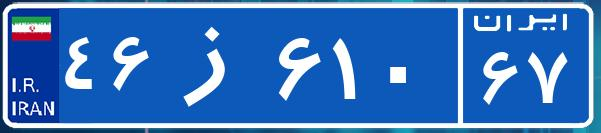0: (385, 28, 445, 110)
1: (330, 28, 385, 110)
4: (57, 26, 110, 107)
6: (273, 28, 330, 110), (475, 38, 525, 113), (110, 28, 158, 105)
7: (525, 38, 570, 115)
ز: (158, 15, 273, 115)
